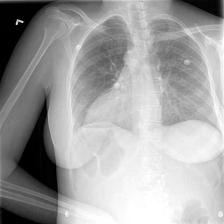normal: (65, 8, 221, 137)
